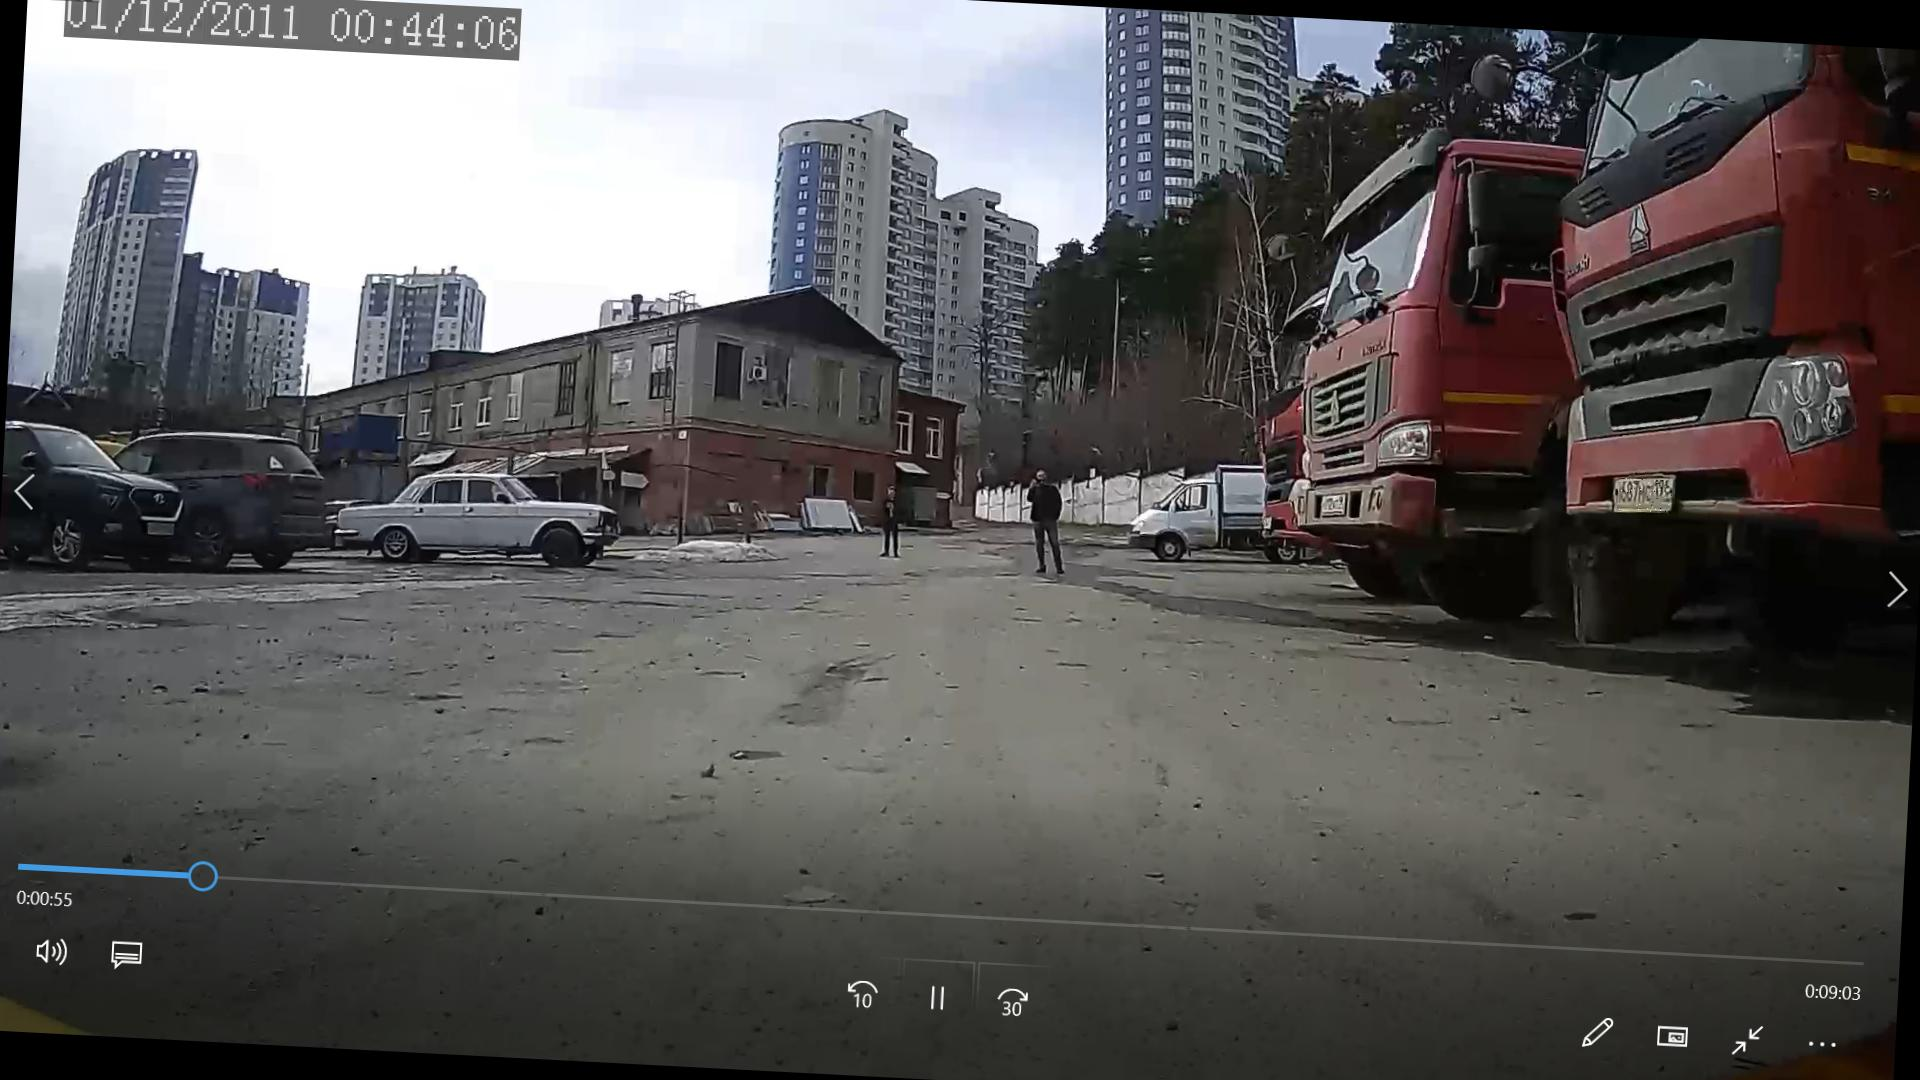plate: (1619, 479, 1677, 514)
